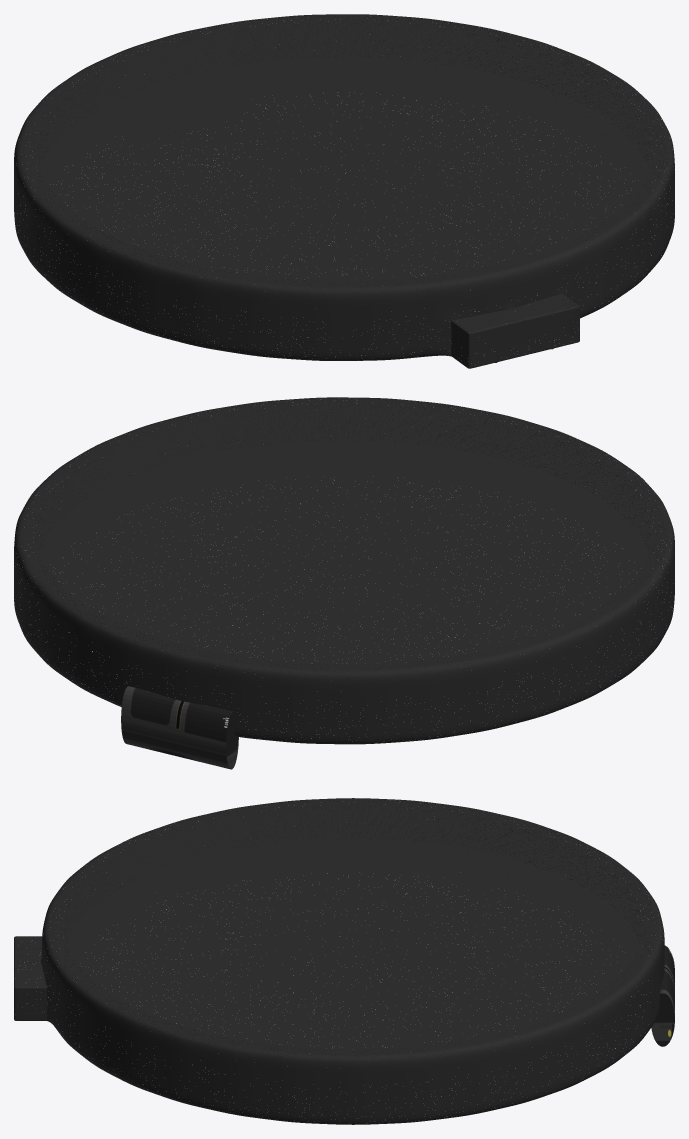
Rendered from trash_bin_top.obj.
3 views of the same model, one above another, from view 1: azimuth 30°, elevation 25°; view 2: azimuth 150°, elevation 25°; view 3: azimuth 270°, elevation 25° (orthographic). The views are drawn at different scales.
Parts seen in each view (by area): view 1: Top; view 2: Top; view 3: Top.
Boxes of the visible parts, x1,y1,x2,y2 form: Top: (14,14,674,368); Top: (14,397,674,769); Top: (14,798,674,1124).
Bounding box in the file's own units: 1.15 × 0.1947 × 1.22.
Materials: 1 (1 with a texture image).
